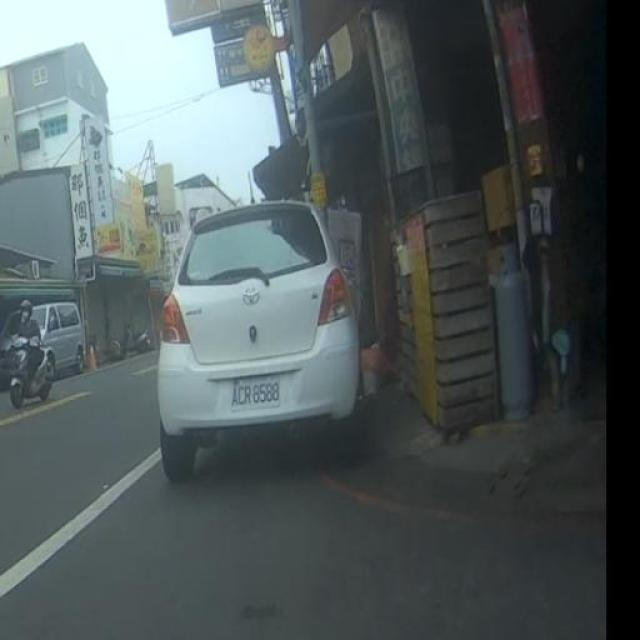Legalparking: (125, 136, 393, 533)
